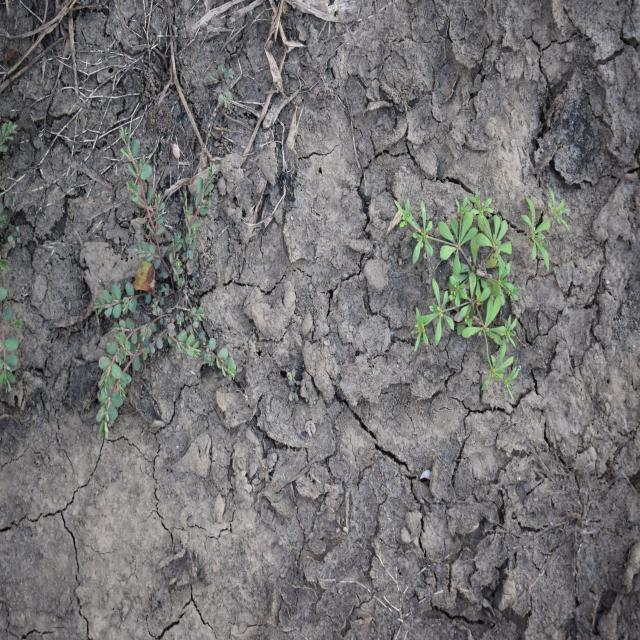Carpetweed: (392, 188, 572, 403)
SpottedSpurge: (94, 123, 239, 443), (1, 118, 21, 397)
